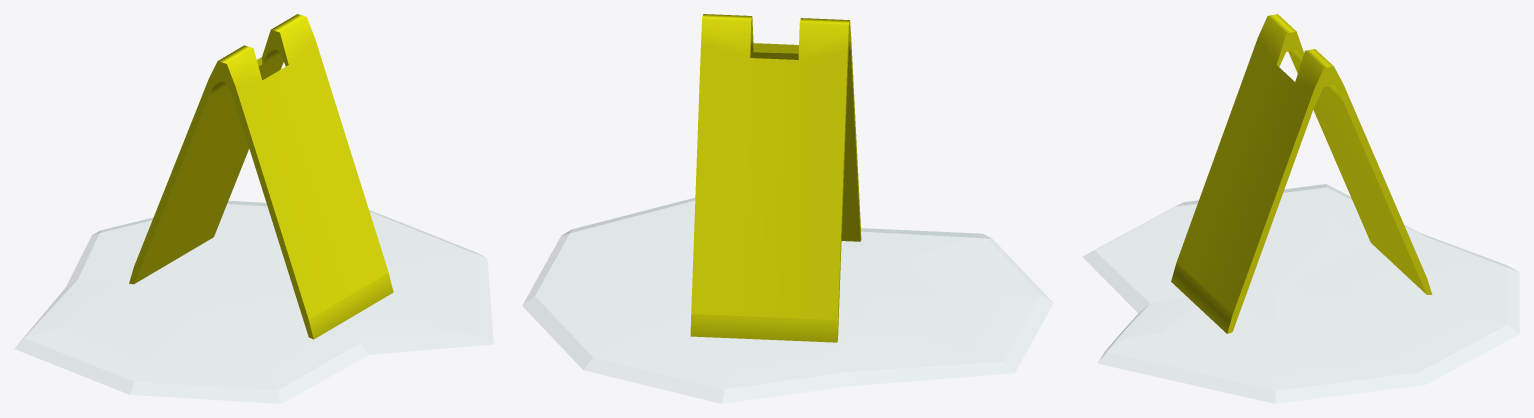
Rendered from WetFloorLambert.fbx.
3 renders of one model, left to right at view 1: azimuth 30°, elevation 25°; view 2: azimuth 150°, elevation 25°; view 3: azimuth 270°, elevation 25°, orthographic. The views are drawn at different scales.
Parts seen in each view (by area): view 1: pSphere1, pCube1; view 2: pSphere1, pCube1; view 3: pSphere1, pCube1.
Boxes of the visible parts, <box> form: pSphere1: <box>14,200,493,403</box>; pCube1: <box>129,14,393,339</box>; pSphere1: <box>522,198,1053,403</box>; pCube1: <box>690,14,861,342</box>; pSphere1: <box>1083,184,1519,403</box>; pCube1: <box>1171,14,1432,333</box>.
Size of the model in its own units: 8.96 by 5.02 by 7.64.
